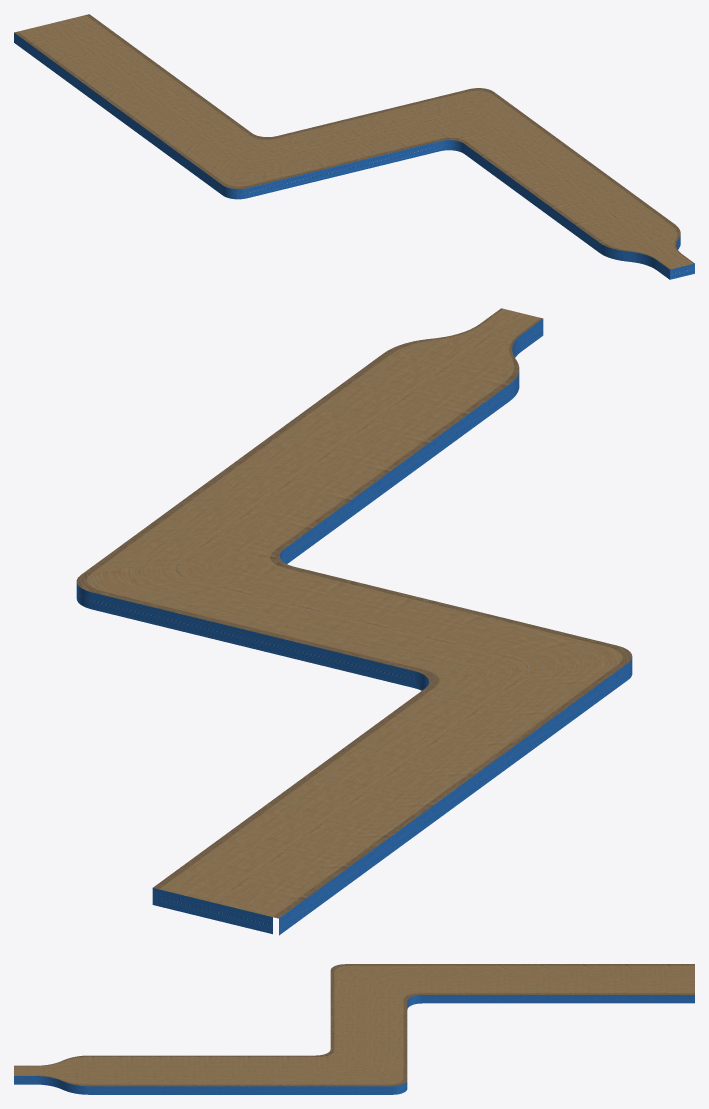
The model's file is ramp_5_1.FBX.
3 views of the same model, one above another, from view 1: azimuth 30°, elevation 25°; view 2: azimuth 150°, elevation 25°; view 3: azimuth 270°, elevation 25° (orthographic). The views are drawn at different scales.
Parts seen in each view (by area): view 1: Object001; view 2: Object001; view 3: Object001.
Boxes of the visible parts, bbox=[...] form: Object001: bbox=[14, 14, 694, 279]; Object001: bbox=[76, 308, 632, 935]; Object001: bbox=[14, 964, 694, 1094].
Size of the model in its own units: 2380 by 77.72 by 5607.
